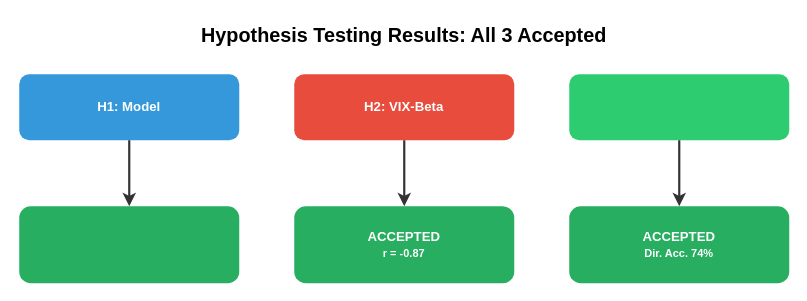
Image size: 807x301. Some labels were removed from this diagram. Here are the shapes that lost their labels. From the top down, the centre of each, then its label:
the point at 679,107: H3: Trading
the point at 129,244: ACCEPTED R²: 0.44 > 0.37
